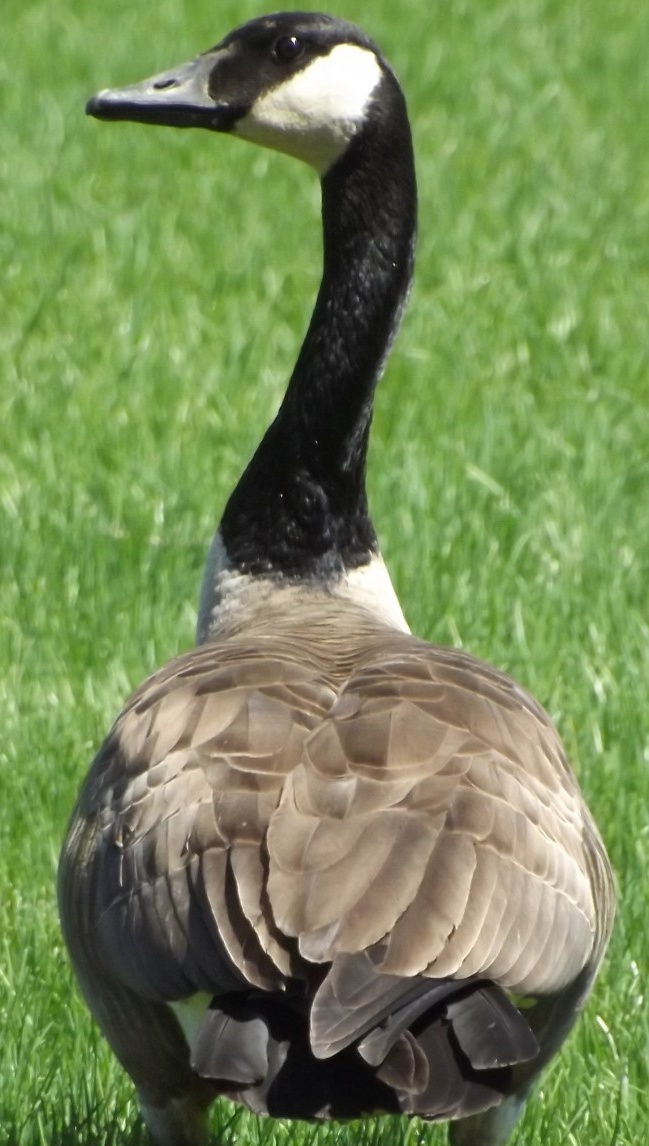goose: (52, 5, 619, 1145)
